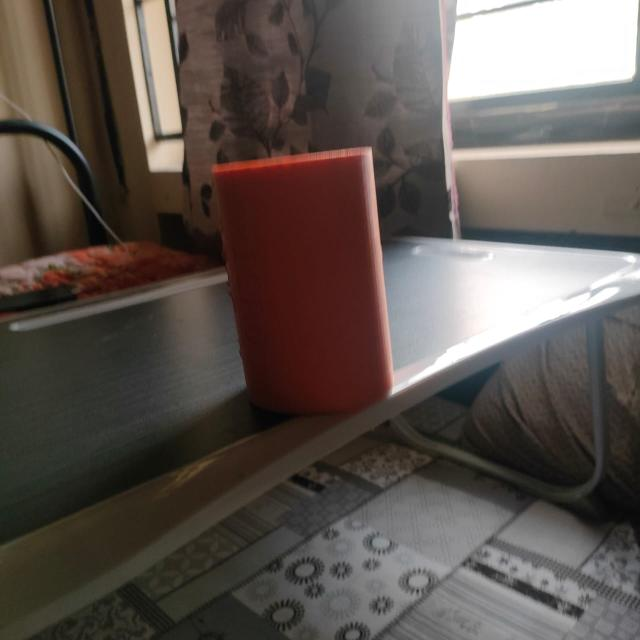Cylinder: (210, 145, 394, 416)
